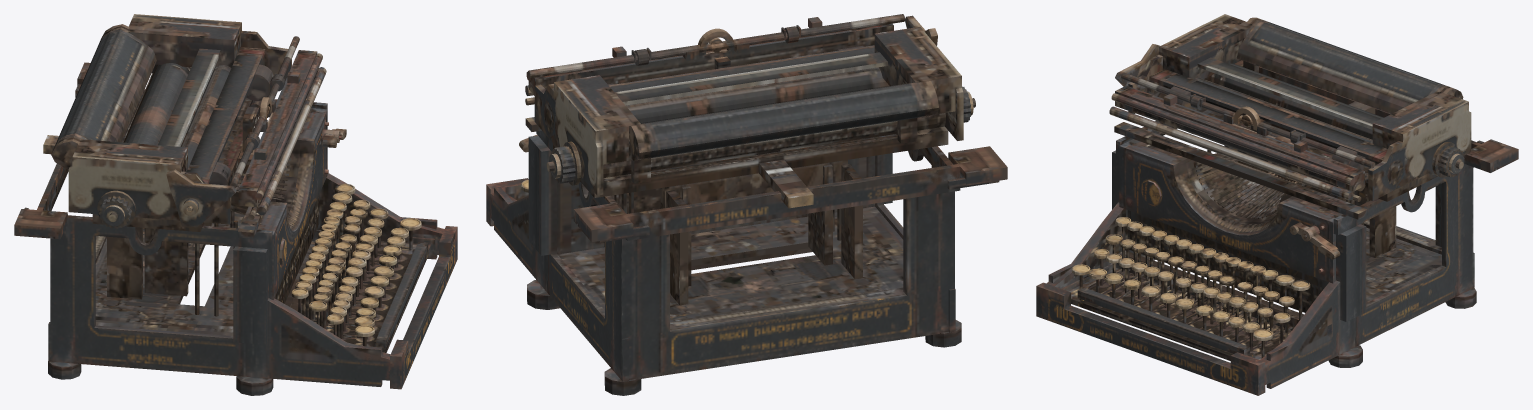
Rendered from Typewriter.fbx.
3 renders of one model, left to right at view 1: azimuth 30°, elevation 25°; view 2: azimuth 150°, elevation 25°; view 3: azimuth 270°, elevation 25°, orthographic. The views are drawn at different scales.
Visible parts, largest first — view 1: Typewriter_Low; view 2: Typewriter_Low; view 3: Typewriter_Low.
Part boxes in pixels (x1,y1,x2,y2): Typewriter_Low: (14, 14, 457, 395); Typewriter_Low: (486, 14, 1007, 395); Typewriter_Low: (1036, 14, 1518, 395).
Size of the model in its own units: 1.58 by 0.761 by 1.57.
